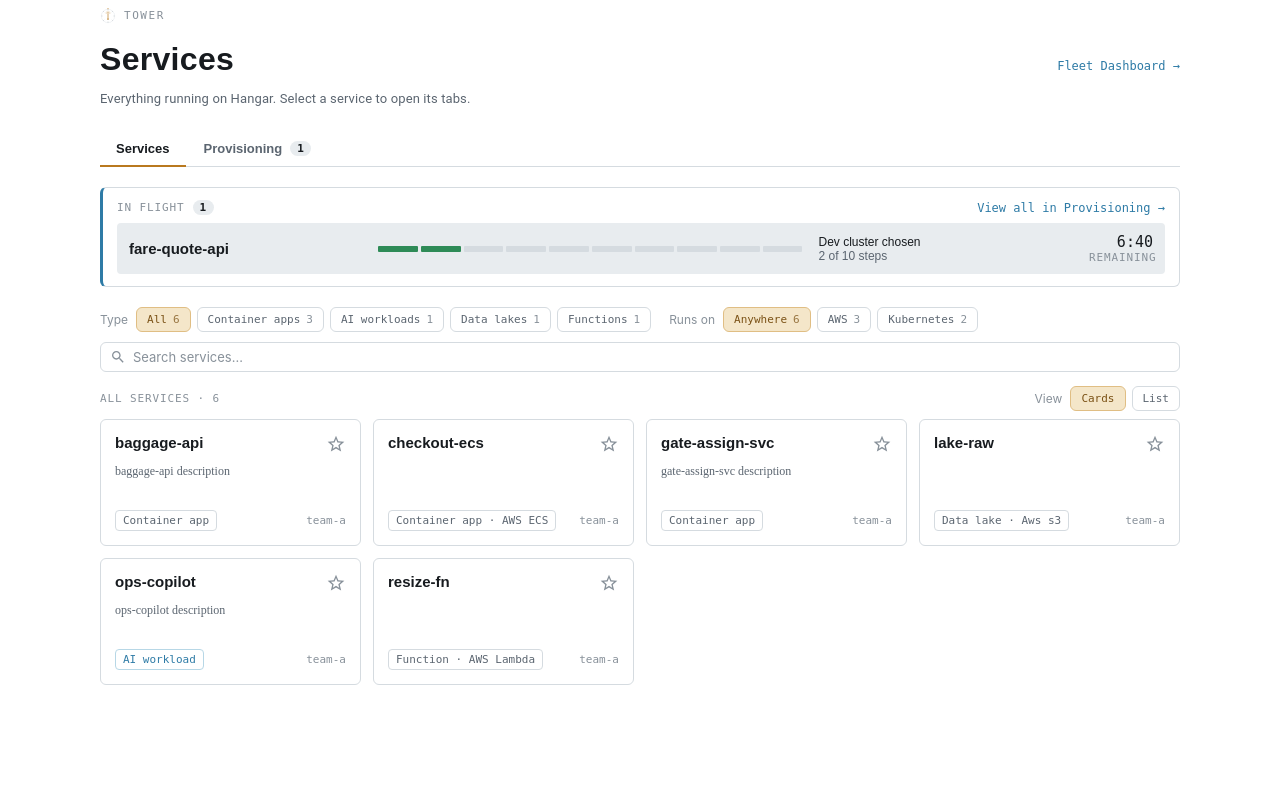
Test: AppPicker with classes Tower has never heard of › builds a chip per class from the data and filters by where services run
The image size is (1280, 800).
expect the text "resize-fn" is shown: met, box [388, 573, 450, 590]
expect the button "Functions 1" is shown: met, box [557, 307, 651, 332]
Second filter appears because services run on more than one provider.
What coordinates should you click on to do the following:
click the button "AWS 3"
I would click on:
 (844, 320)
Its box is [817, 307, 871, 332].
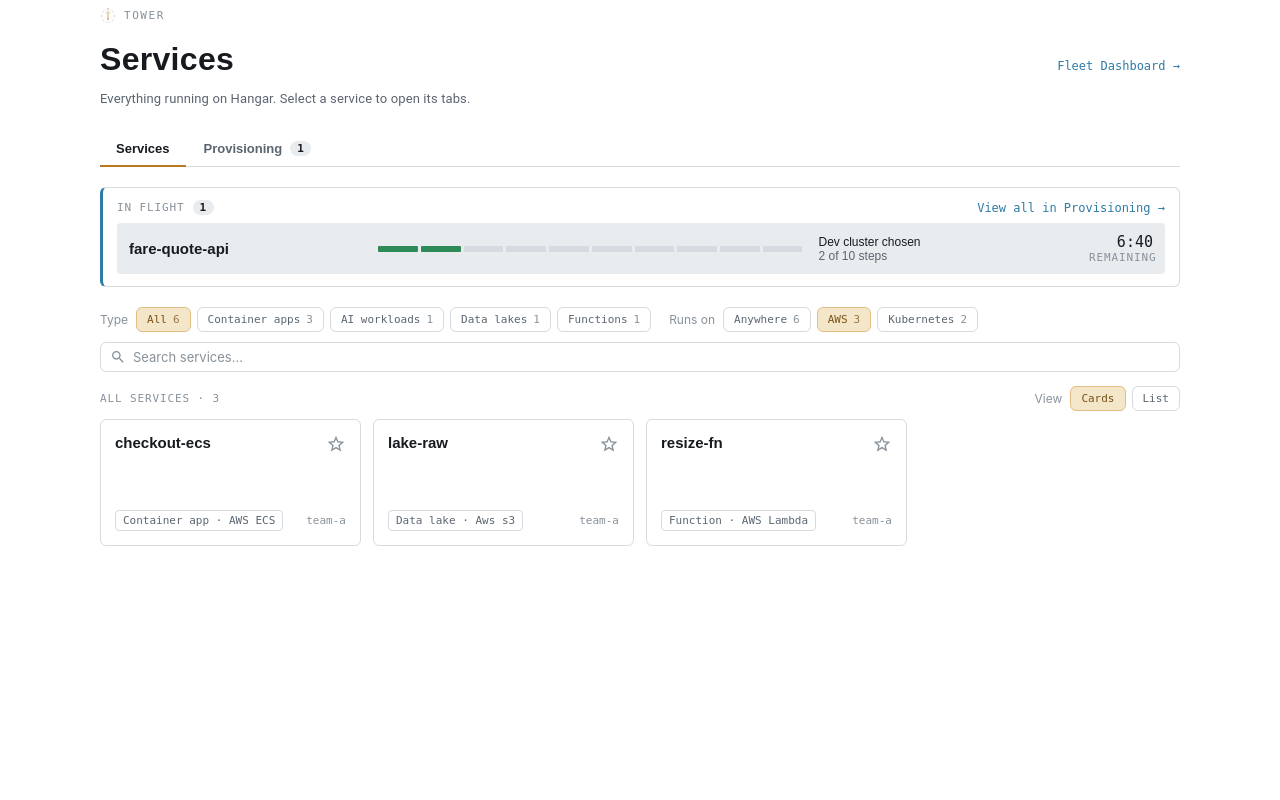
expect the button "baggage-api" is gone: met
expect the text "resize-fn" is shown: met, box [661, 434, 723, 451]
expect the text "checkout-ecs" is shown: met, box [115, 434, 211, 451]
The two filters combine.
What coordinates should you click on to do the following:
click the button "Container apps 3"
I would click on:
 (260, 320)
Its box is [197, 307, 324, 332].
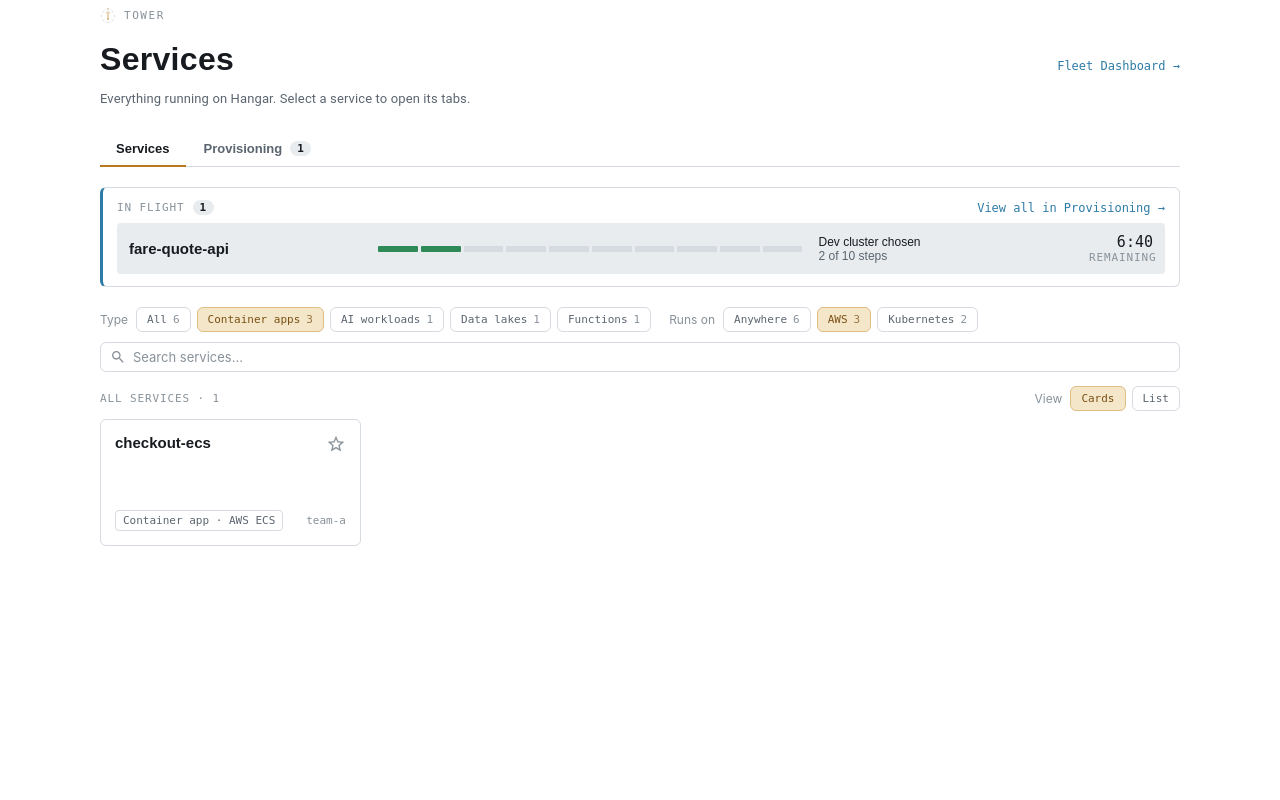
expect the text "checkout-ecs" is shown: met, box [115, 434, 211, 451]
expect the button "resize-fn" is gone: met
